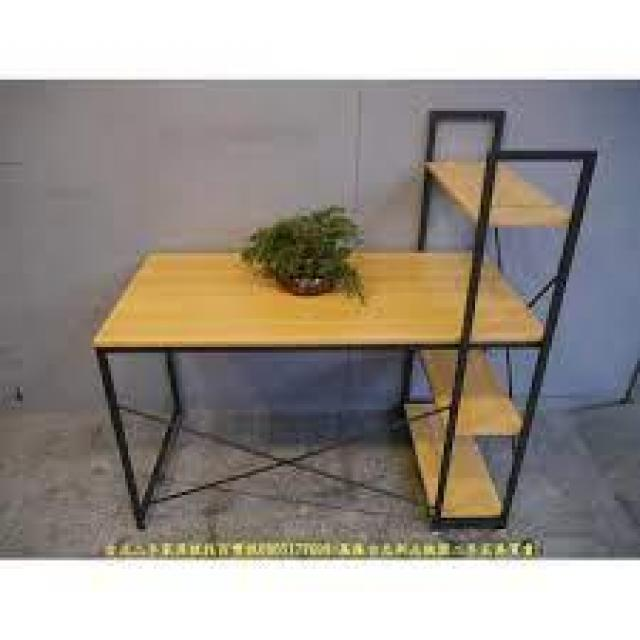desk: (59, 104, 590, 525)
